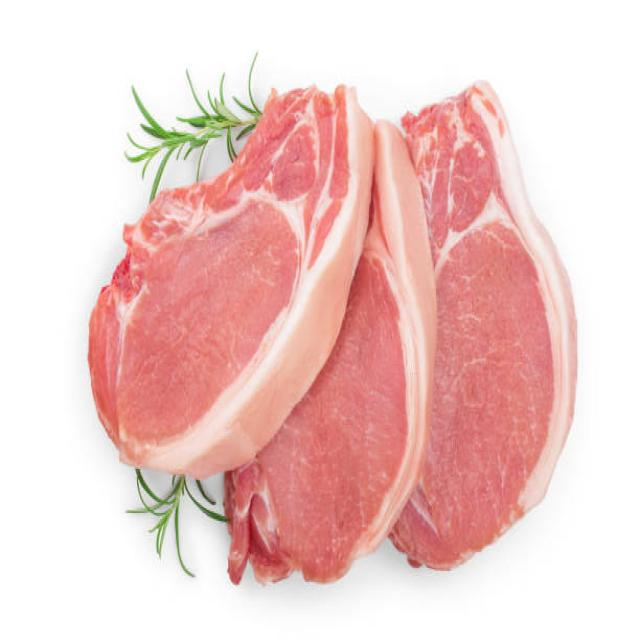Pork: (89, 86, 374, 477), (225, 122, 436, 583), (390, 82, 576, 569)
